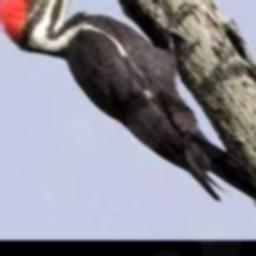Woodpecker: (0, 0, 256, 218)
